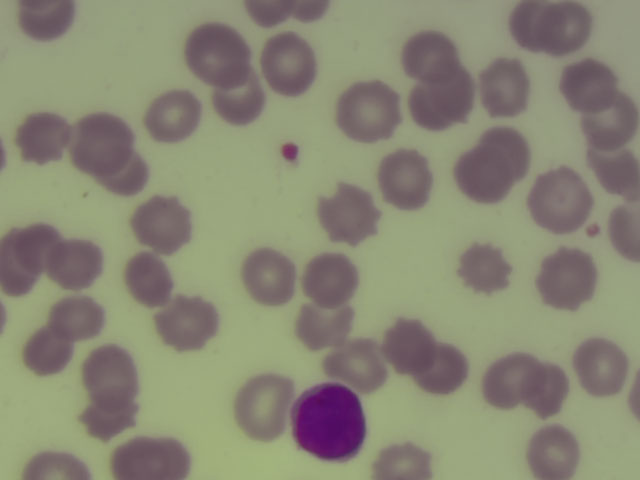Platelets: (273, 137, 304, 165), (584, 218, 603, 240)
RBC: (235, 367, 286, 443), (531, 168, 589, 232), (110, 434, 185, 480), (296, 299, 350, 354), (537, 1, 591, 51), (16, 445, 92, 480), (322, 188, 376, 237), (1, 228, 38, 299), (528, 429, 578, 480), (460, 242, 510, 292), (576, 343, 626, 393), (522, 366, 572, 416), (484, 354, 534, 404), (541, 254, 591, 304), (590, 143, 640, 193), (583, 95, 633, 145), (562, 56, 612, 106), (460, 149, 510, 199), (382, 153, 432, 203), (416, 342, 466, 392), (381, 320, 431, 370), (481, 63, 531, 113), (415, 75, 465, 125), (406, 29, 456, 79), (343, 84, 393, 134), (331, 337, 381, 387), (306, 252, 356, 302), (242, 251, 292, 301), (81, 390, 131, 440), (83, 349, 133, 399), (160, 299, 210, 349), (122, 252, 172, 302), (51, 290, 101, 340), (136, 196, 186, 246), (50, 238, 100, 288), (13, 218, 63, 268), (147, 92, 197, 142), (261, 37, 311, 87), (213, 72, 263, 122), (190, 26, 240, 76), (96, 146, 146, 196), (74, 116, 124, 166), (17, 113, 67, 163), (371, 440, 433, 480), (509, 1, 559, 50), (483, 126, 532, 176), (19, 1, 76, 38), (27, 325, 67, 377), (608, 198, 640, 262), (242, 1, 296, 28)
WBC: (292, 378, 368, 462)
